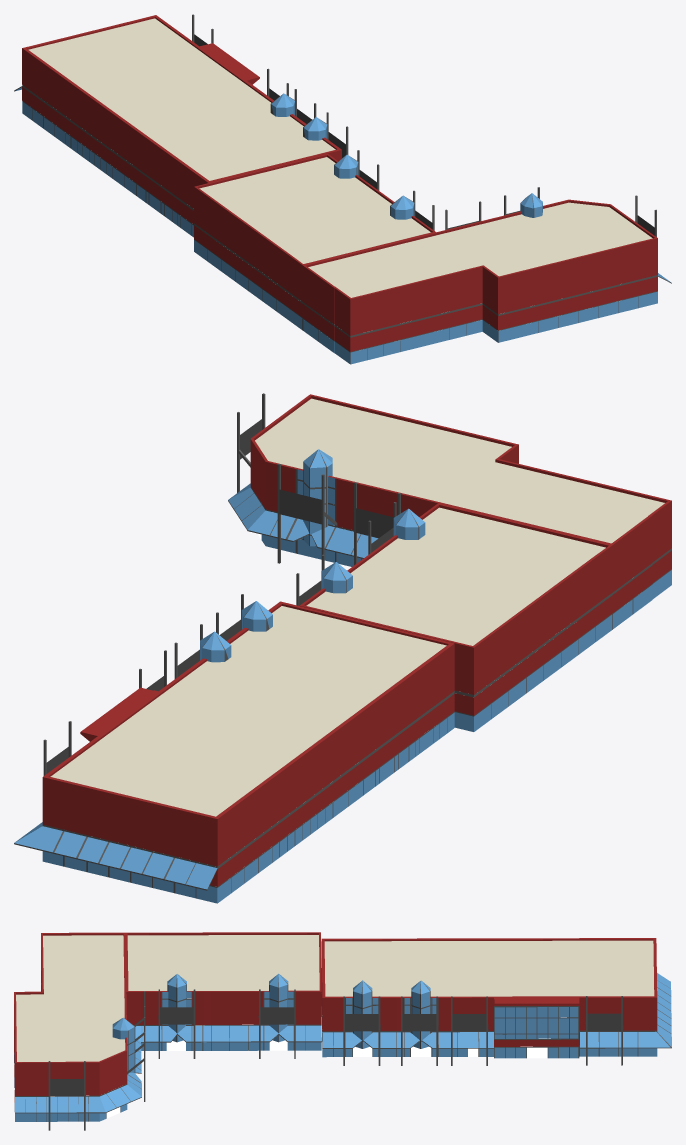
Rendered from sanders_WBv4.glb.
3 renders of one model, top to bottom at view 1: azimuth 30°, elevation 25°; view 2: azimuth 150°, elevation 25°; view 3: azimuth 270°, elevation 25°, orthographic. The views are drawn at different scales.
Parts seen in each view (by area): view 1: 279815744; view 2: 279815744; view 3: 279815744.
Boxes of the visible parts, x1,y1,x2,y2 form: 279815744: (14, 14, 671, 364); 279815744: (14, 393, 671, 903); 279815744: (14, 932, 671, 1130).
Size of the model in its own units: 261 by 66.73 by 525.
